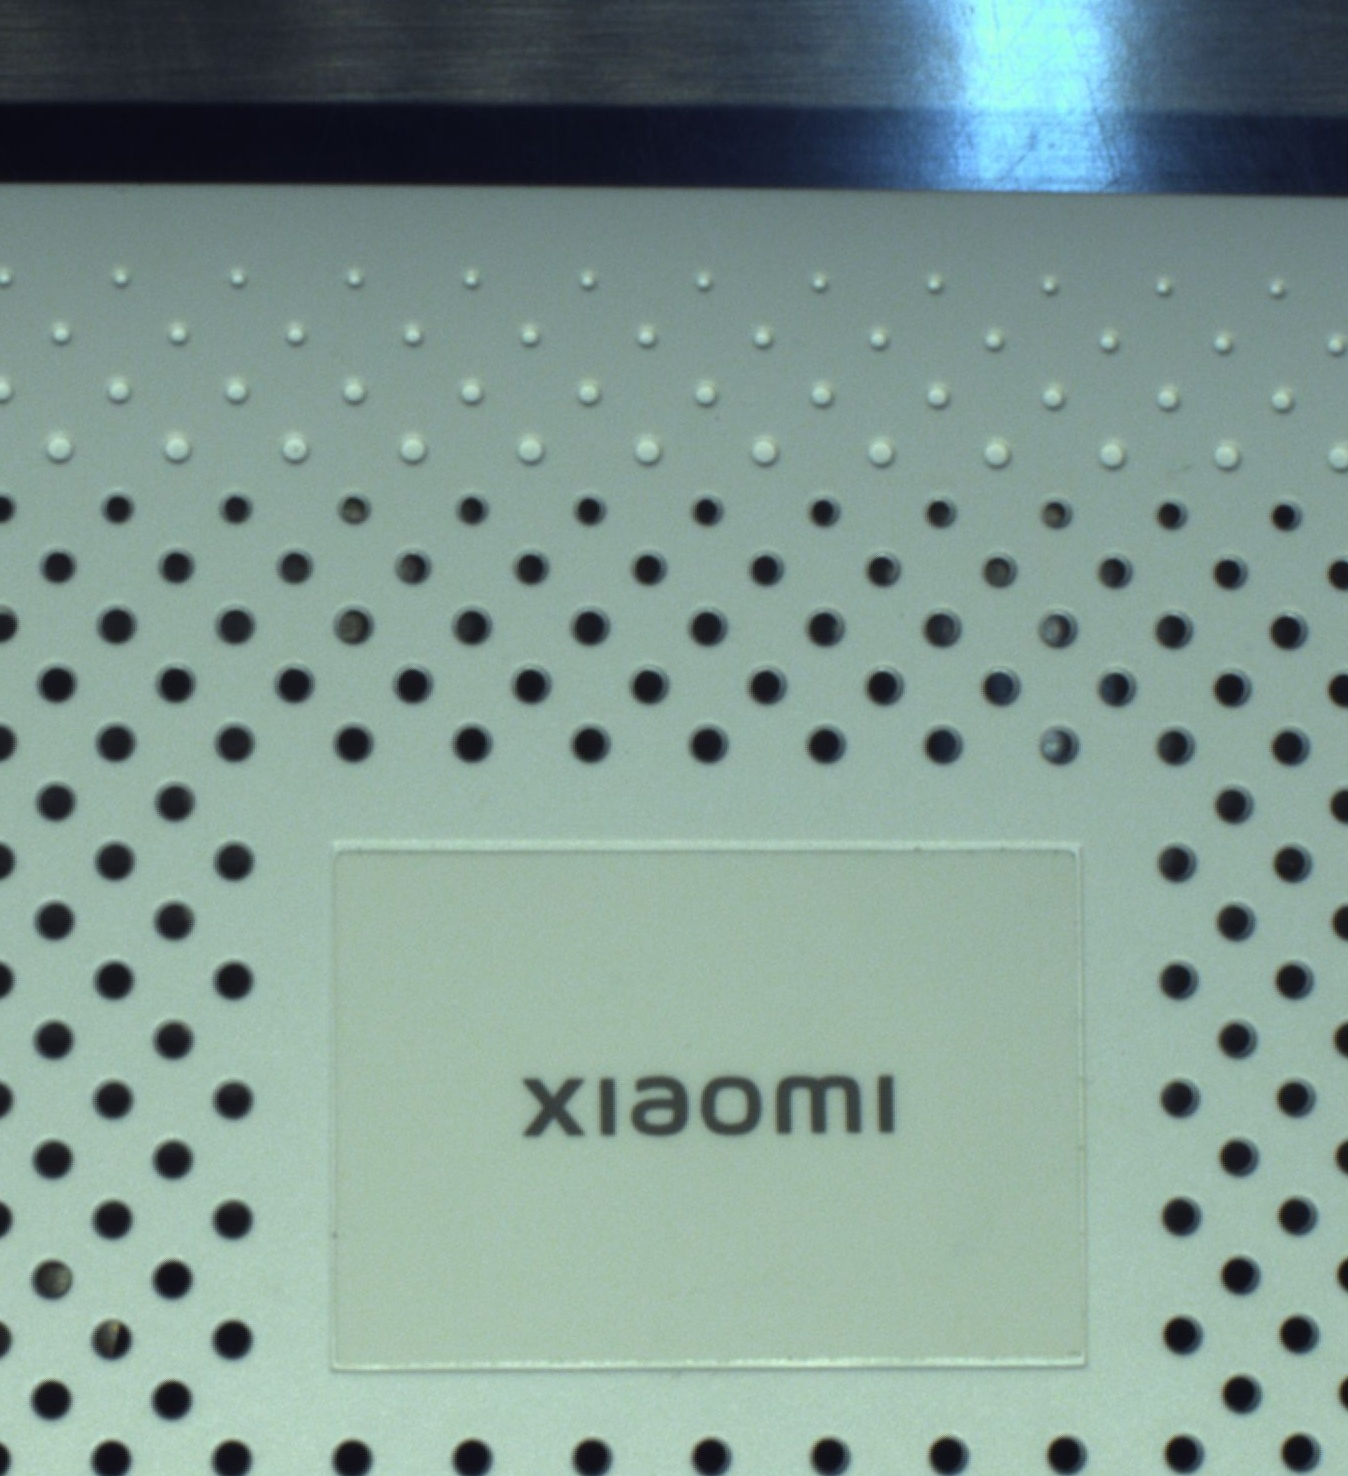MAB_OldUnicom: (506, 1052, 926, 1158)
